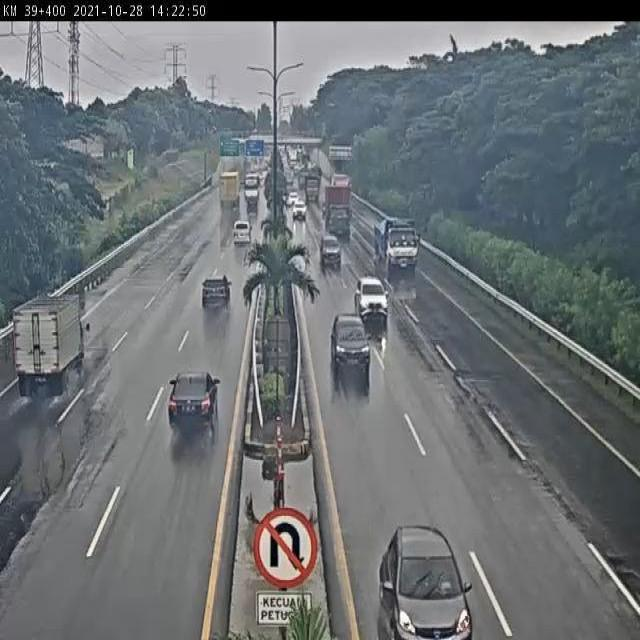car: (166, 369, 222, 436), (330, 313, 376, 383)
truck: (10, 292, 90, 399), (374, 217, 422, 276), (324, 188, 353, 243)
